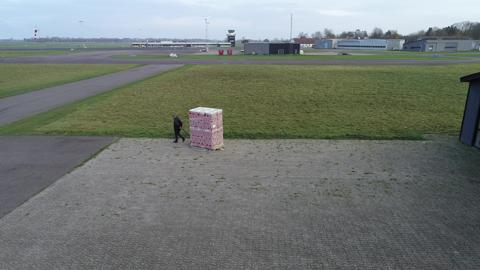RockwoolPallet: (188, 107, 225, 150)
